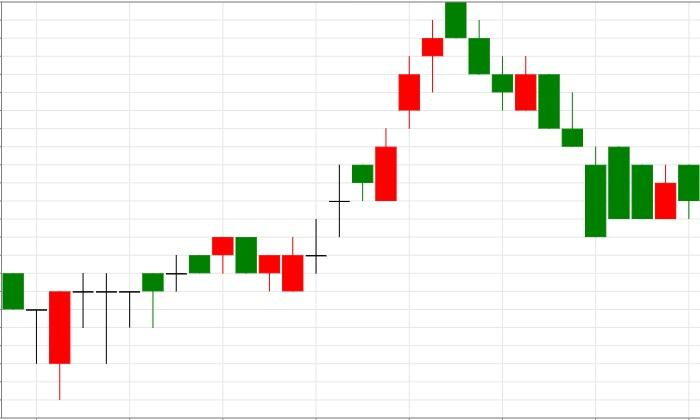three_black_crows_fall: (374, 2, 513, 202)
